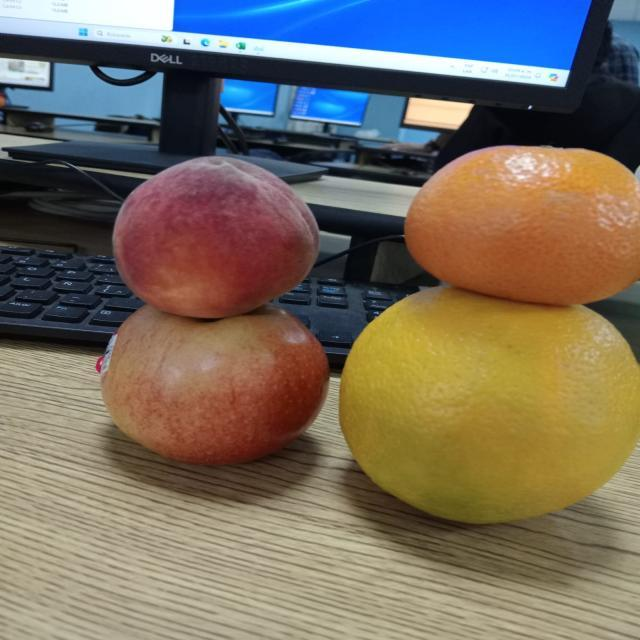Apel Gala: (92, 297, 335, 472)
Jeruk: (339, 284, 640, 528)
Jeruk Mandarin: (386, 134, 640, 314)
Persik: (97, 143, 327, 326)
